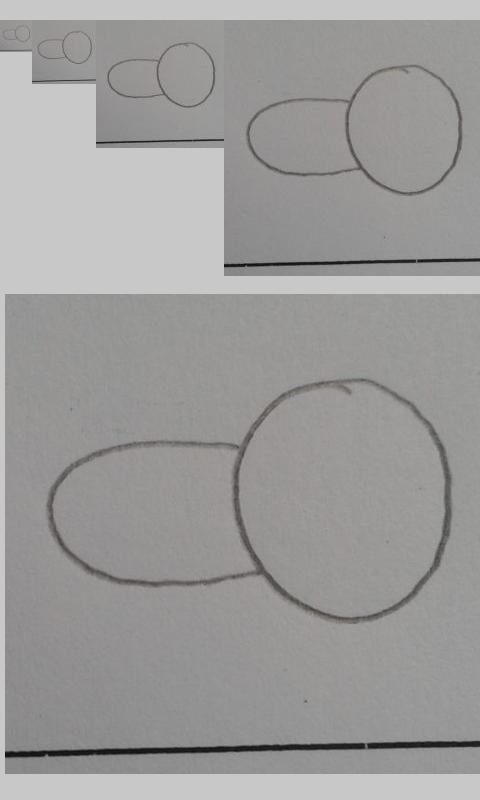switch: (46, 378, 453, 624), (246, 64, 464, 197), (107, 42, 216, 108), (36, 30, 93, 65), (1, 24, 31, 43)
